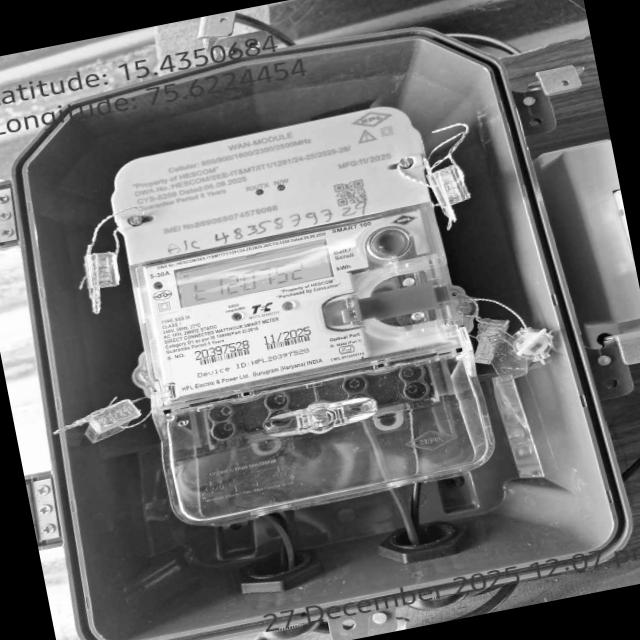meter: (108, 100, 469, 405)
